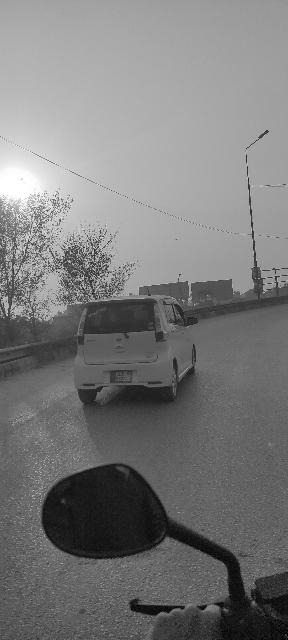Number: (115, 372, 126, 381)
